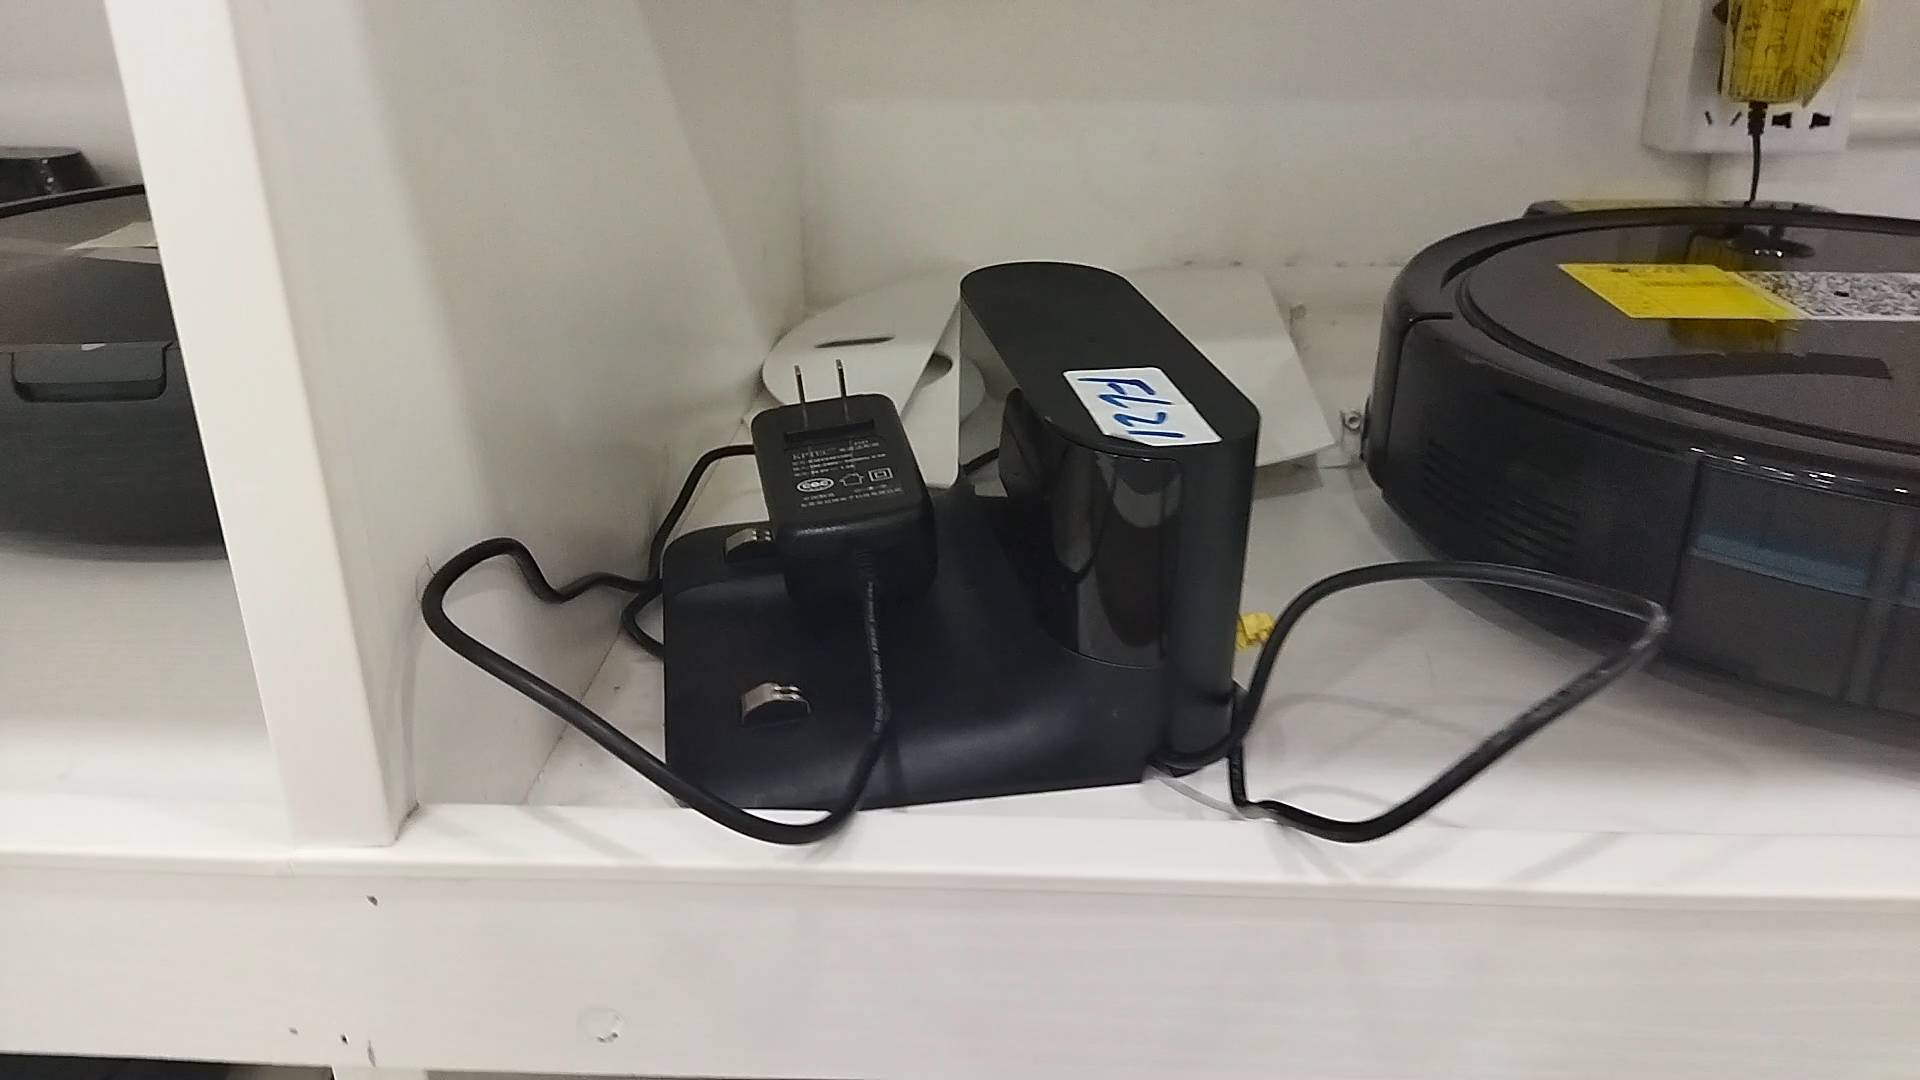recharge seat: (663, 260, 1267, 807)
